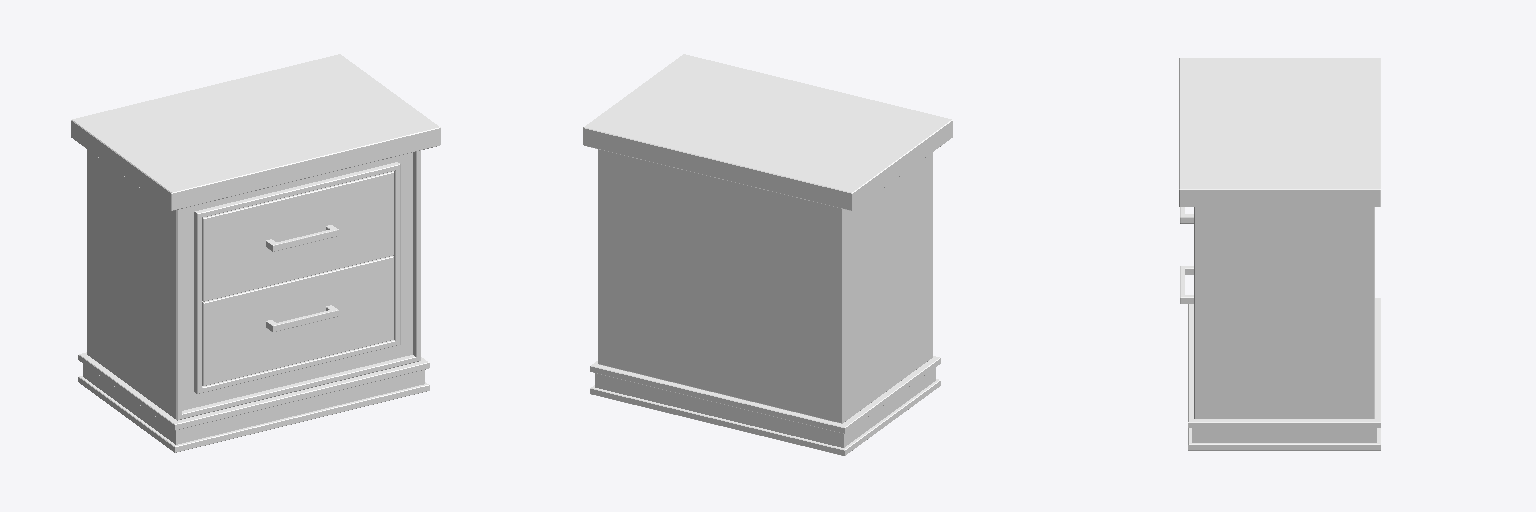
The picture shows the model from 3 angles: view 1: azimuth 30°, elevation 25°; view 2: azimuth 150°, elevation 25°; view 3: azimuth 270°, elevation 25°; orthographic projection.
Parts seen in each view (by area): view 1: aws_NightStand_01_visualMesh; view 2: aws_NightStand_01_visualMesh; view 3: aws_NightStand_01_visualMesh.
Part boxes in pixels (x1,y1,x2,y2): aws_NightStand_01_visualMesh: (71,54,440,452); aws_NightStand_01_visualMesh: (583,54,952,455); aws_NightStand_01_visualMesh: (1179,58,1380,450).
Size of the model in its own units: 0.7252 by 0.6817 by 0.4694.